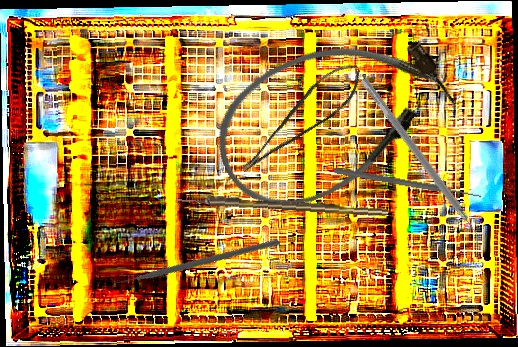Cannula: (196, 6, 468, 229)
Chopper: (105, 170, 281, 347)
Hook Surgical: (175, 193, 389, 218)
Micro Scissor: (224, 56, 374, 177)
Pusher: (333, 166, 483, 201)
Spatula Surgical: (353, 77, 488, 248)
